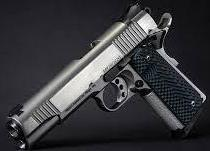gun: (1, 1, 210, 151)
